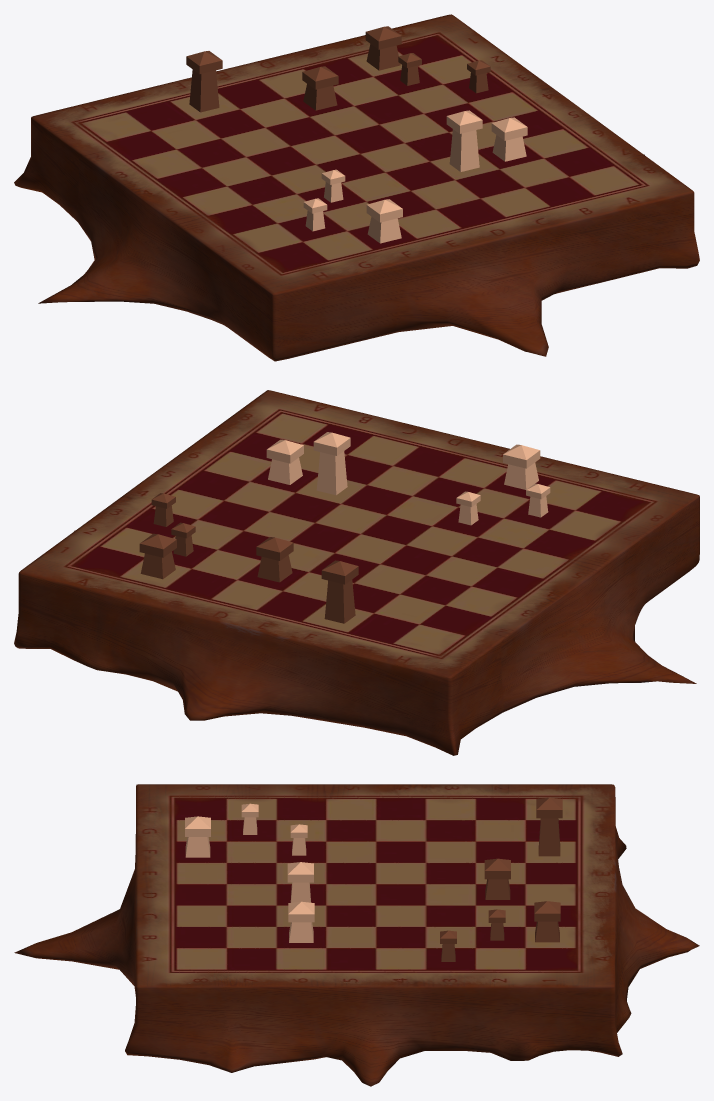
The model's file is Schachbrett_02.fbx.
3 views of the same model, one above another, from view 1: azimuth 30°, elevation 25°; view 2: azimuth 150°, elevation 25°; view 3: azimuth 270°, elevation 25° (orthographic). The views are drawn at different scales.
Parts seen in each view (by area): view 1: 立方体; view 2: 立方体; view 3: 立方体.
Part boxes in pixels (x1=…): 立方体: x1=14, y1=14, x2=699, y2=361; 立方体: x1=14, y1=390, x2=699, y2=755; 立方体: x1=14, y1=784, x2=699, y2=1086.
Bounding box in the file's own units: 286 × 288 × 57.76.
